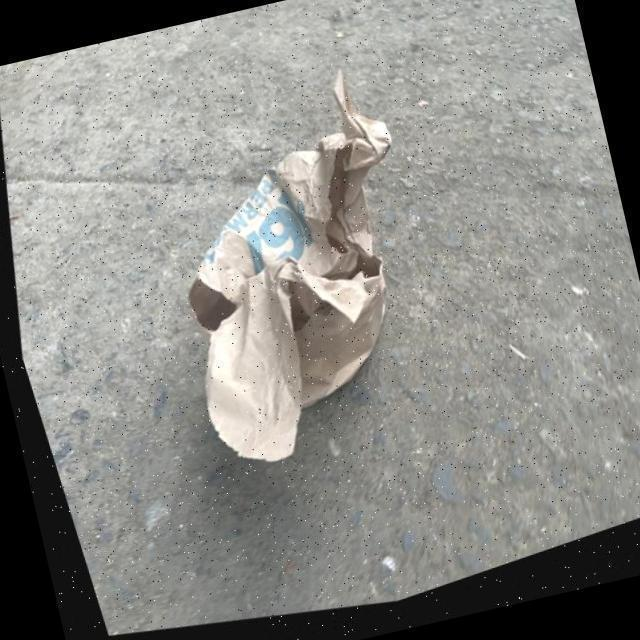Paper_Bag: (89, 22, 498, 526)
